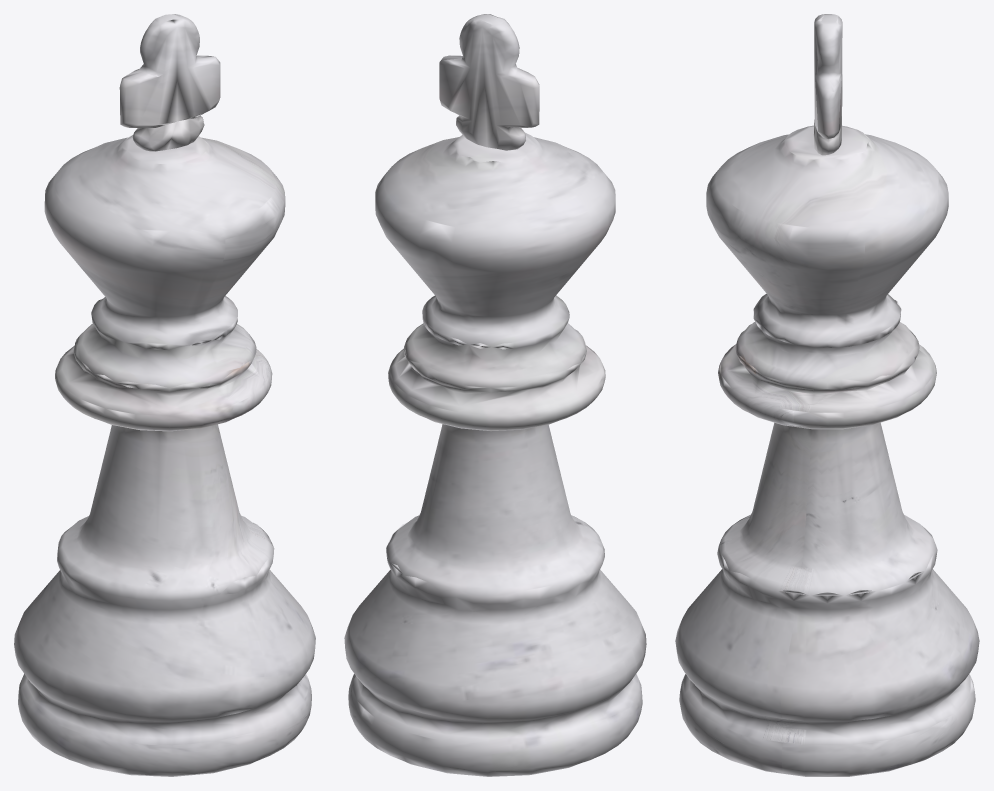
Rendered from white_king.glb.
3 views of the same model, side by side, from view 1: azimuth 30°, elevation 25°; view 2: azimuth 150°, elevation 25°; view 3: azimuth 270°, elevation 25° (orthographic).
Visible parts, largest first — view 1: Circle.031; view 2: Circle.031; view 3: Circle.031.
Boxes of the visible parts, x1,y1,x2,y2 form: Circle.031: (14,14,315,776); Circle.031: (344,14,646,776); Circle.031: (675,14,979,776).
Bounding box in the file's own units: 1.47 × 3.77 × 1.47.
1 material, 1 textured.
